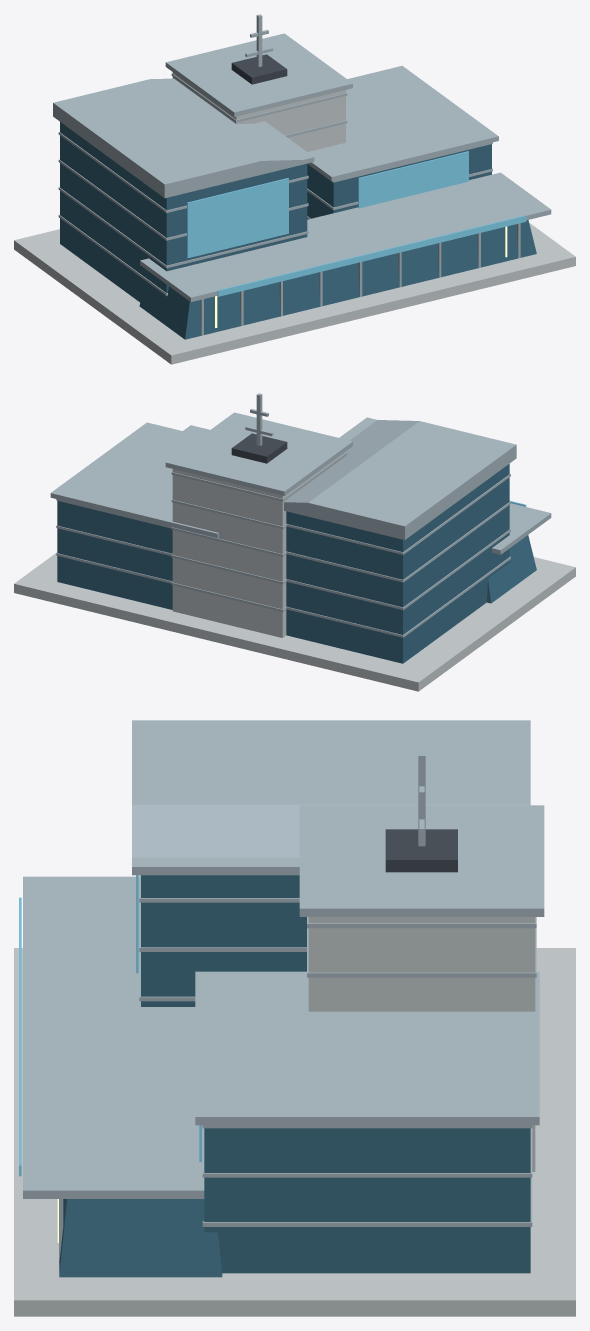
The model's file is Atlantis_SignalTV_v1.glb.
3 renders of one model, top to bottom at view 1: azimuth 30°, elevation 25°; view 2: azimuth 150°, elevation 25°; view 3: azimuth 270°, elevation 25°, orthographic. The views are drawn at different scales.
Visible parts, largest first — view 1: SignalTV_Media_BrushedSilver, SignalTV_Media_BlueGlazing, SignalTV_Media_PearlConcrete, SignalTV_Display_Main, SignalTV_Display_Secondary, SignalTV_Ticker, SignalTV_Media_Graphite; view 2: SignalTV_Media_BrushedSilver, SignalTV_Media_BlueGlazing, SignalTV_Media_PearlConcrete, SignalTV_Media_Graphite; view 3: SignalTV_Media_BrushedSilver, SignalTV_Media_BlueGlazing, SignalTV_Media_PearlConcrete, SignalTV_Media_Graphite, SignalTV_Ticker.
Part boxes in pixels (x1=…): SignalTV_Media_BrushedSilver: x1=53, y1=14, x2=551, y2=335; SignalTV_Media_BlueGlazing: x1=60, y1=122, x2=536, y2=339; SignalTV_Media_PearlConcrete: x1=14, y1=72, x2=575, y2=364; SignalTV_Display_Main: x1=187, y1=178, x2=288, y2=258; SignalTV_Display_Secondary: x1=358, y1=151, x2=468, y2=208; SignalTV_Ticker: x1=217, y1=215, x2=526, y2=296; SignalTV_Media_Graphite: x1=231, y1=54, x2=287, y2=84; SignalTV_Media_BrushedSilver: x1=50, y1=393, x2=551, y2=637; SignalTV_Media_BlueGlazing: x1=57, y1=464, x2=536, y2=663; SignalTV_Media_PearlConcrete: x1=14, y1=451, x2=575, y2=691; SignalTV_Media_Graphite: x1=231, y1=433, x2=287, y2=463; SignalTV_Media_BrushedSilver: x1=23, y1=720, x2=544, y2=1262; SignalTV_Media_BlueGlazing: x1=59, y1=875, x2=530, y2=1277; SignalTV_Media_PearlConcrete: x1=14, y1=917, x2=575, y2=1316; SignalTV_Media_Graphite: x1=385, y1=829, x2=457, y2=872; SignalTV_Ticker: x1=19, y1=897, x2=21, y2=1176.
Size of the model in its own units: 92 by 47 by 62.
